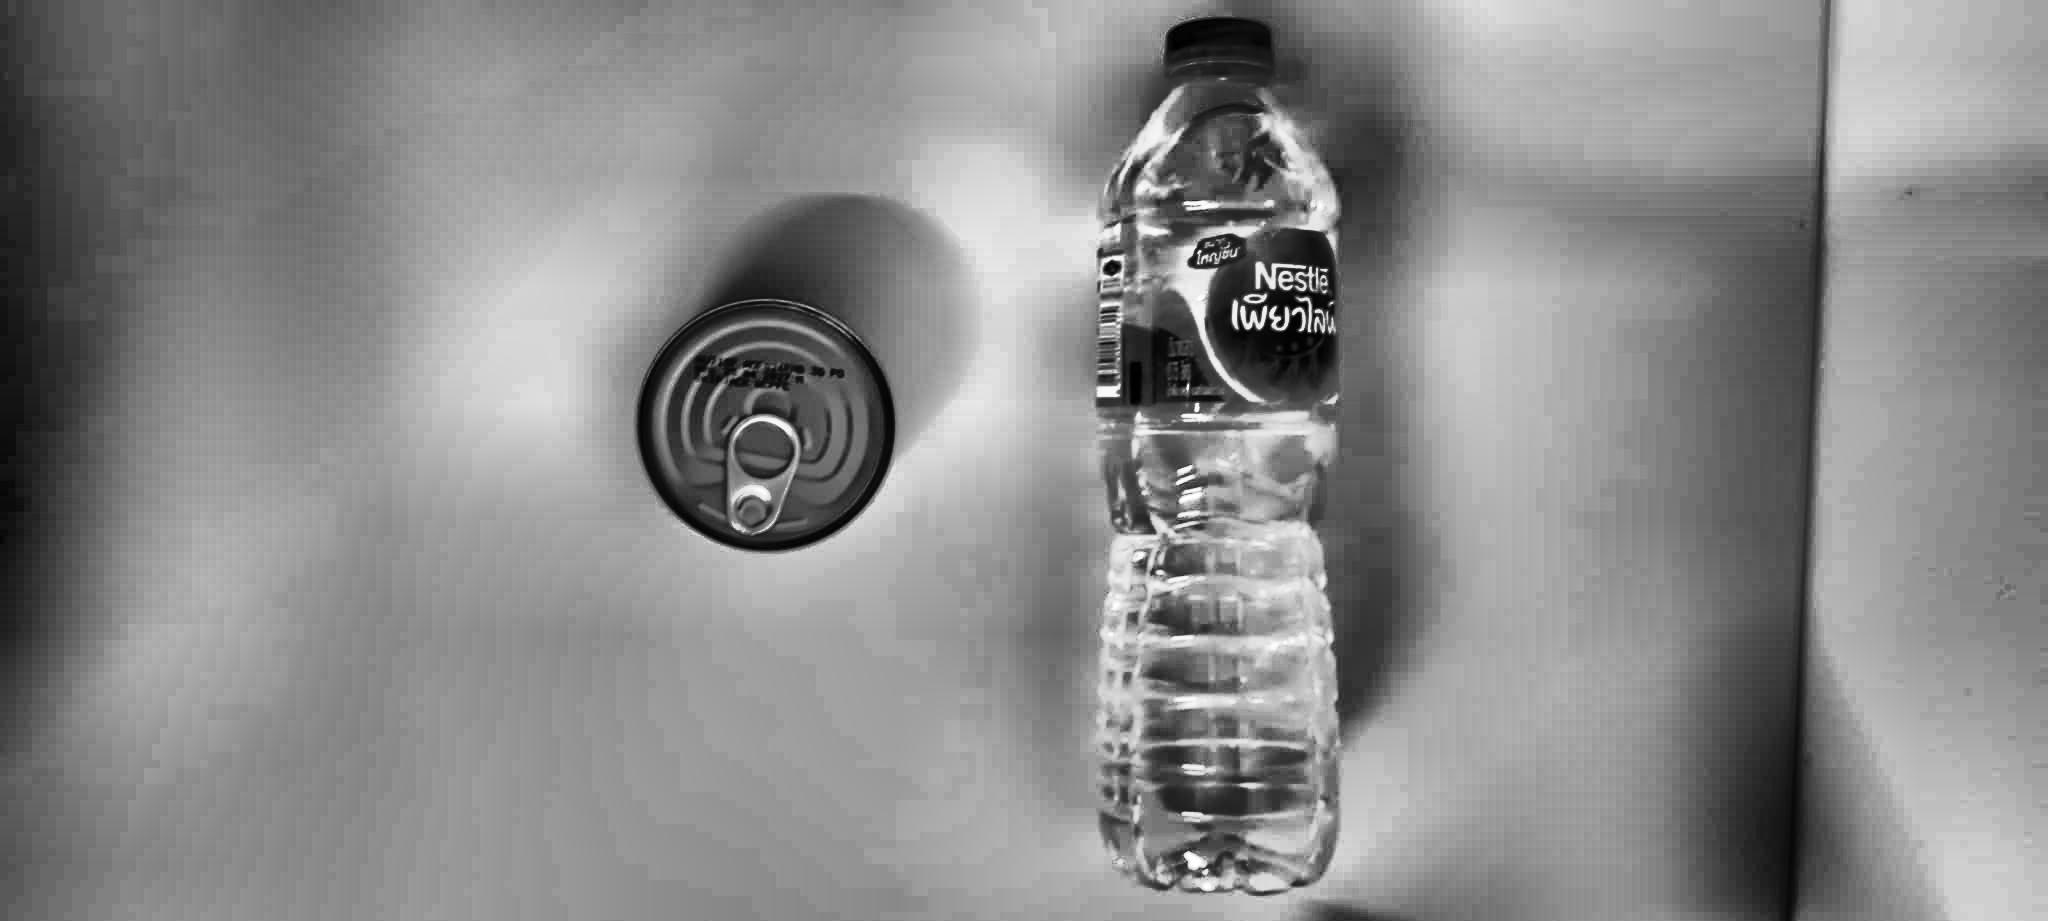can: (628, 288, 918, 569)
waterbottle: (1060, 10, 1415, 904)
